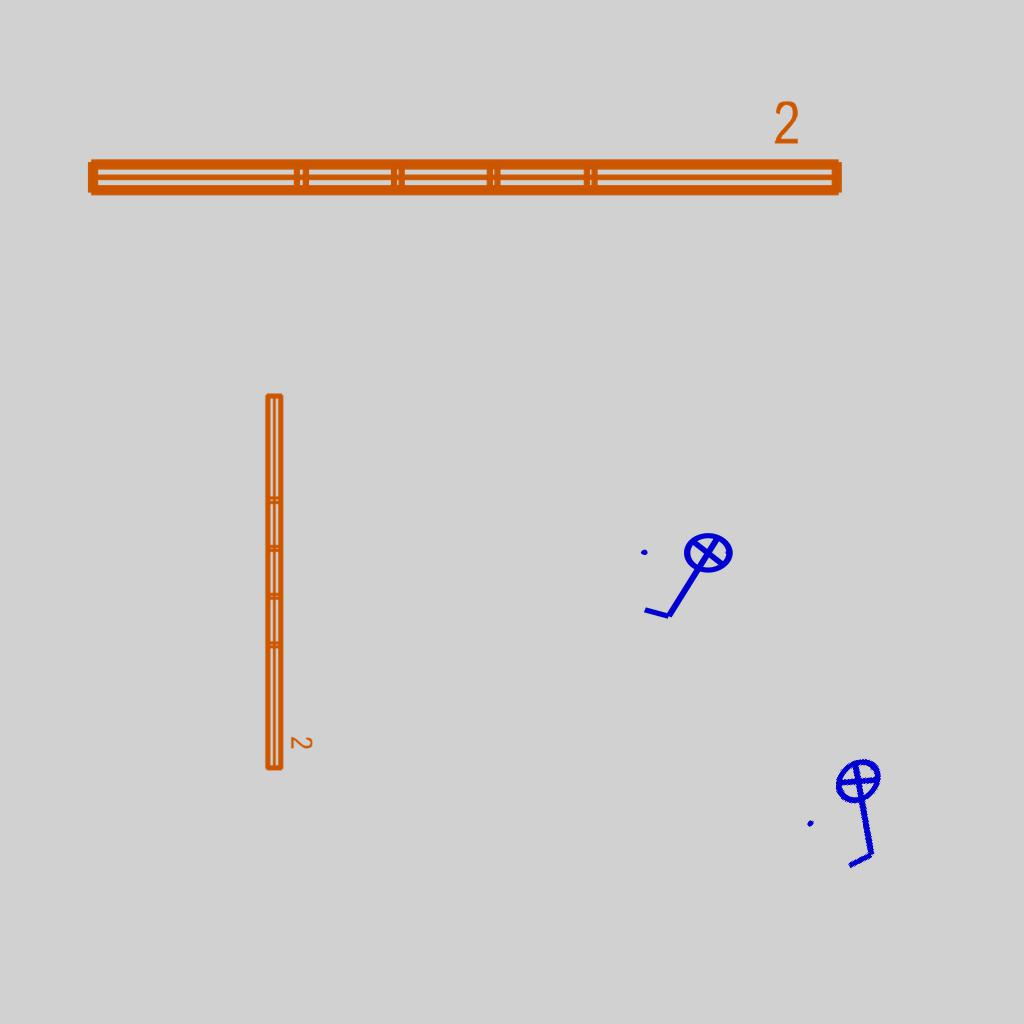Ambulanz_Pendelleuchte_LED: (77, 96, 851, 208), (259, 388, 315, 775)
Ausschalter_beleuchtet: (789, 738, 937, 886), (635, 531, 747, 627)
